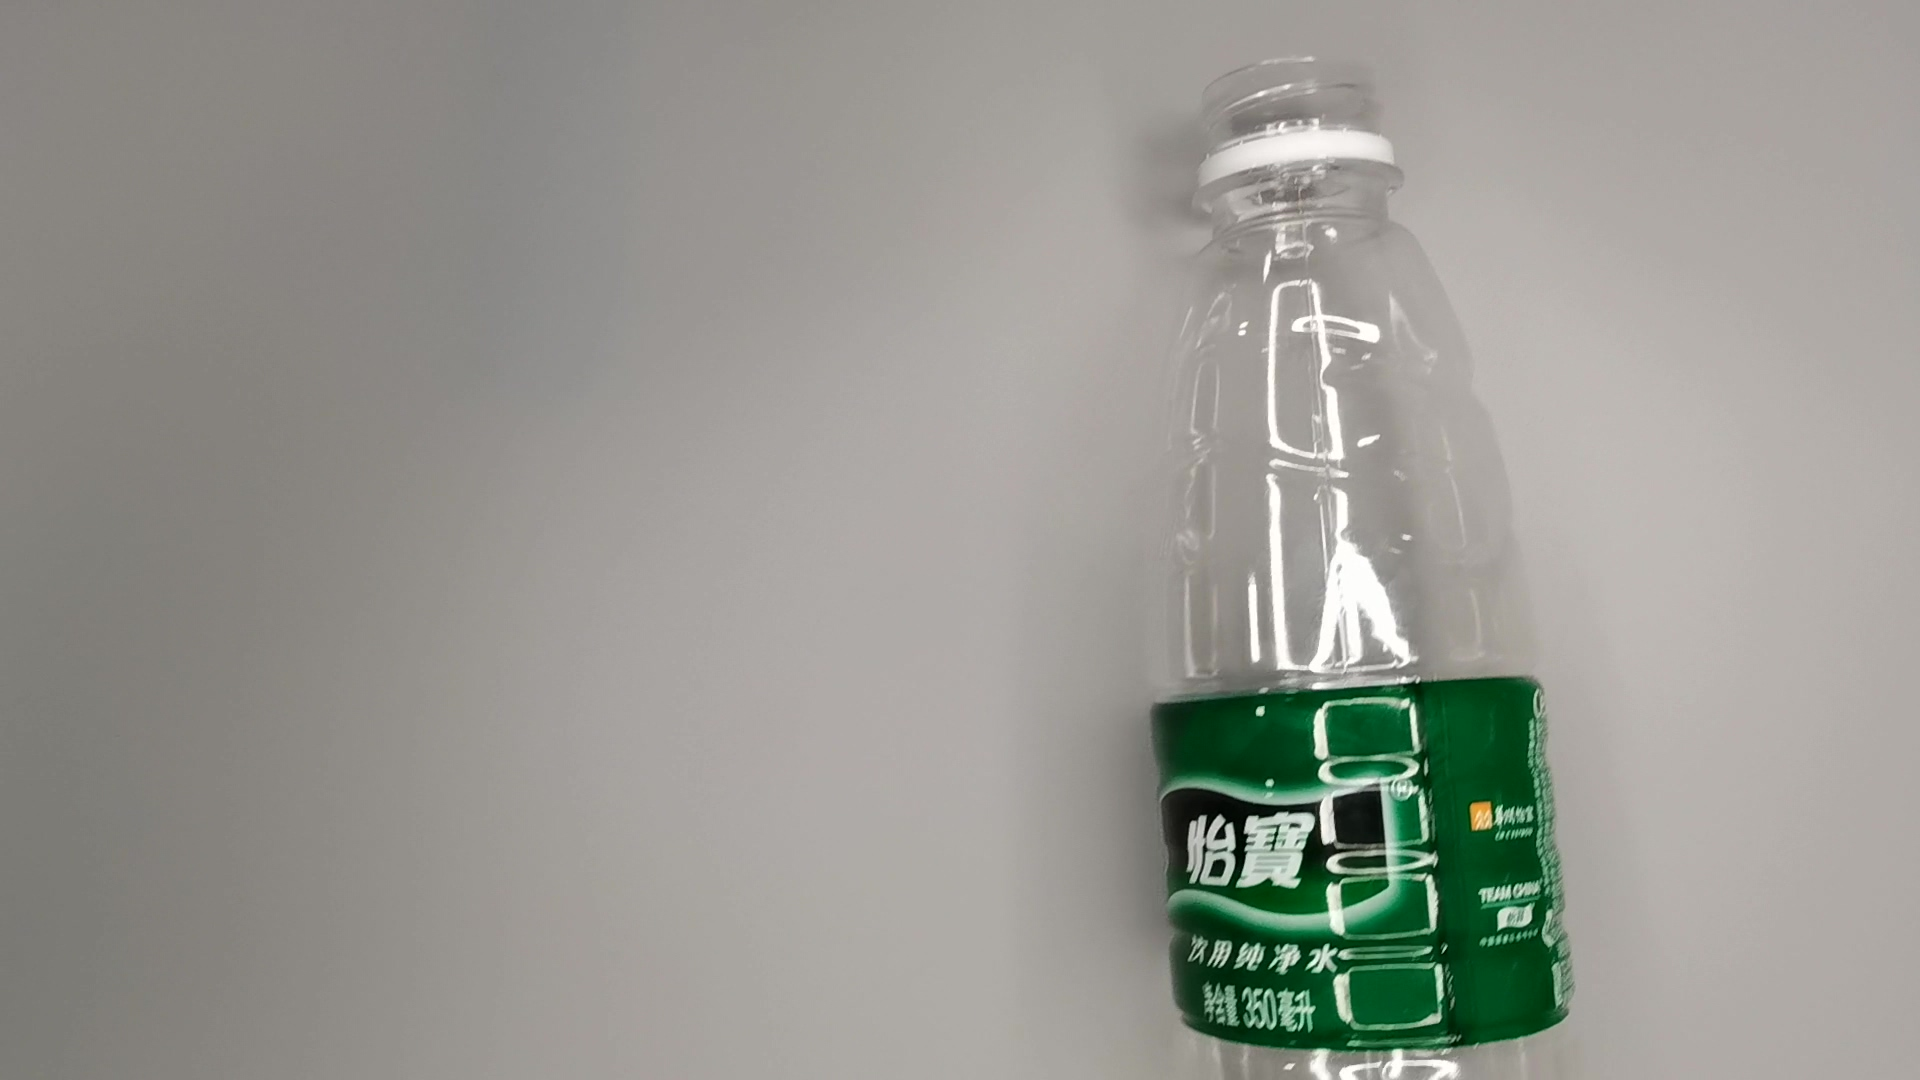bottle: (1121, 49, 1592, 1080)
